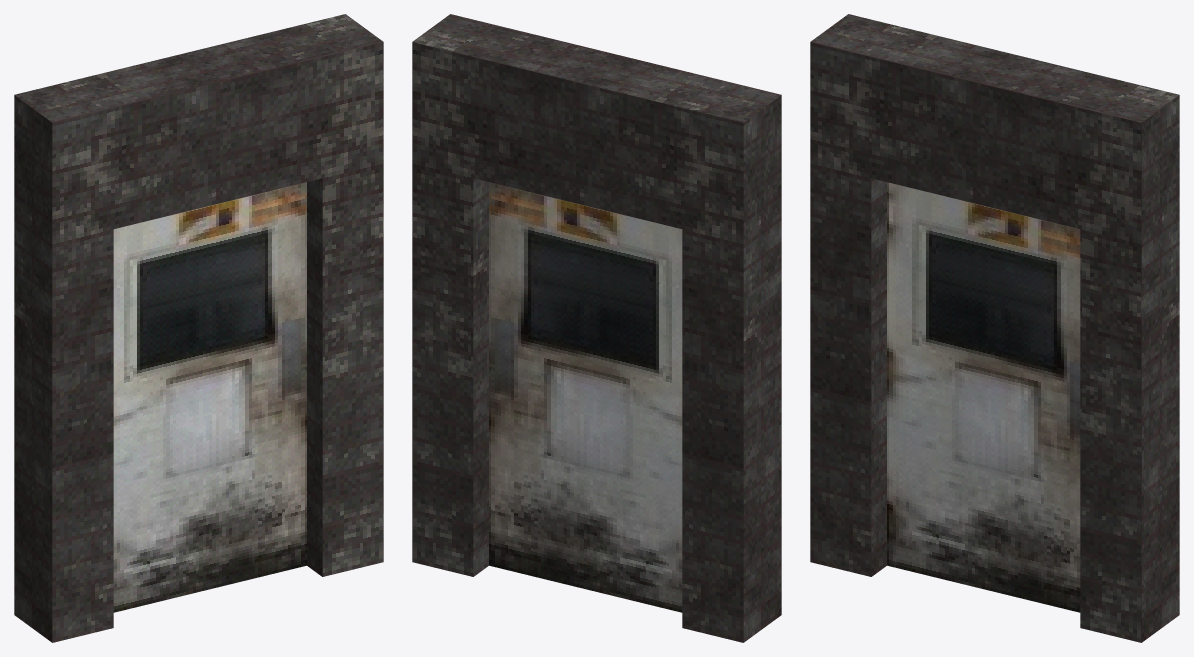
Rendered from wall_doorway_02.gltf.
The picture shows the model from 3 angles, left to right: view 1: azimuth 30°, elevation 25°; view 2: azimuth 150°, elevation 25°; view 3: azimuth 330°, elevation 25°; orthographic projection.
Visible parts, largest first — view 1: wall_doorway_02, door.001; view 2: wall_doorway_02, door.001; view 3: wall_doorway_02, door.001.
Boxes of the visible parts, box(x1,y1,x2,y2) form: wall_doorway_02: box(14, 14, 383, 642); door.001: box(113, 182, 306, 612); wall_doorway_02: box(412, 14, 781, 642); door.001: box(489, 182, 682, 612); wall_doorway_02: box(810, 14, 1179, 642); door.001: box(887, 182, 1080, 612).
Bounding box in the file's own units: 2 × 3 × 0.4.
2 materials, 2 textured.
